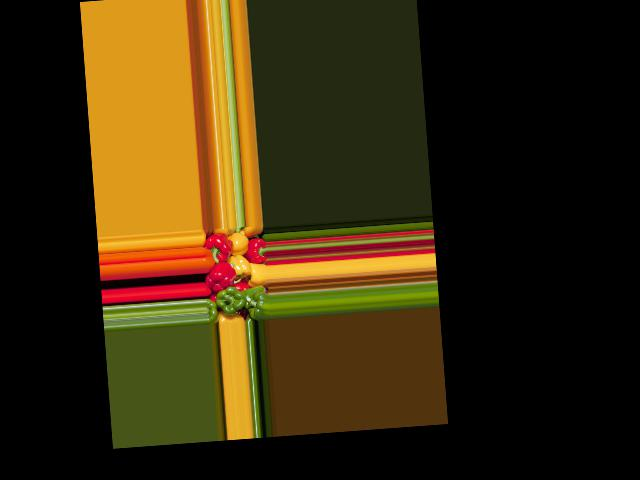bell_pepper: (205, 297, 222, 324)
